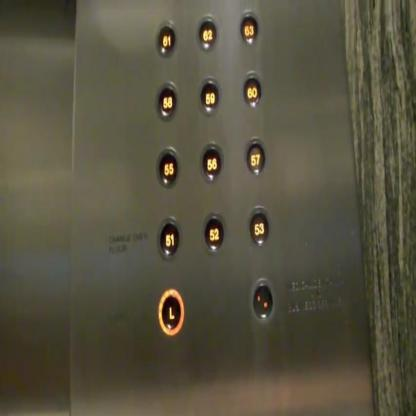51: (156, 215, 182, 260)
52: (202, 212, 224, 253)
53: (246, 204, 272, 248)
55: (155, 145, 181, 188)
56: (198, 141, 224, 183)
57: (244, 136, 268, 177)
58: (154, 80, 179, 120)
59: (196, 76, 221, 114)
60: (240, 69, 263, 110)
61: (155, 19, 178, 57)
62: (195, 13, 219, 51)
63: (237, 9, 259, 46)
L: (157, 288, 184, 335)
blur: (249, 278, 275, 322)
